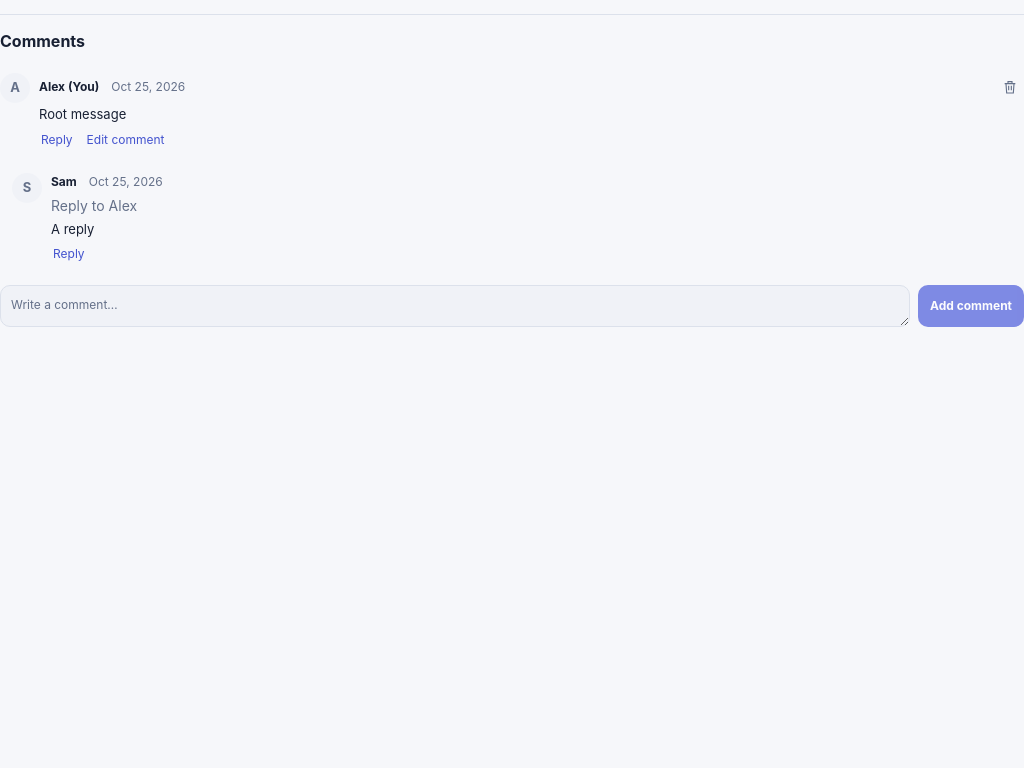
Test case: blocks repeated deletions while the first request is pending
Click the button named "Delete comment" at {"x": 1010, "y": 87}, box [996, 73, 1023, 101]
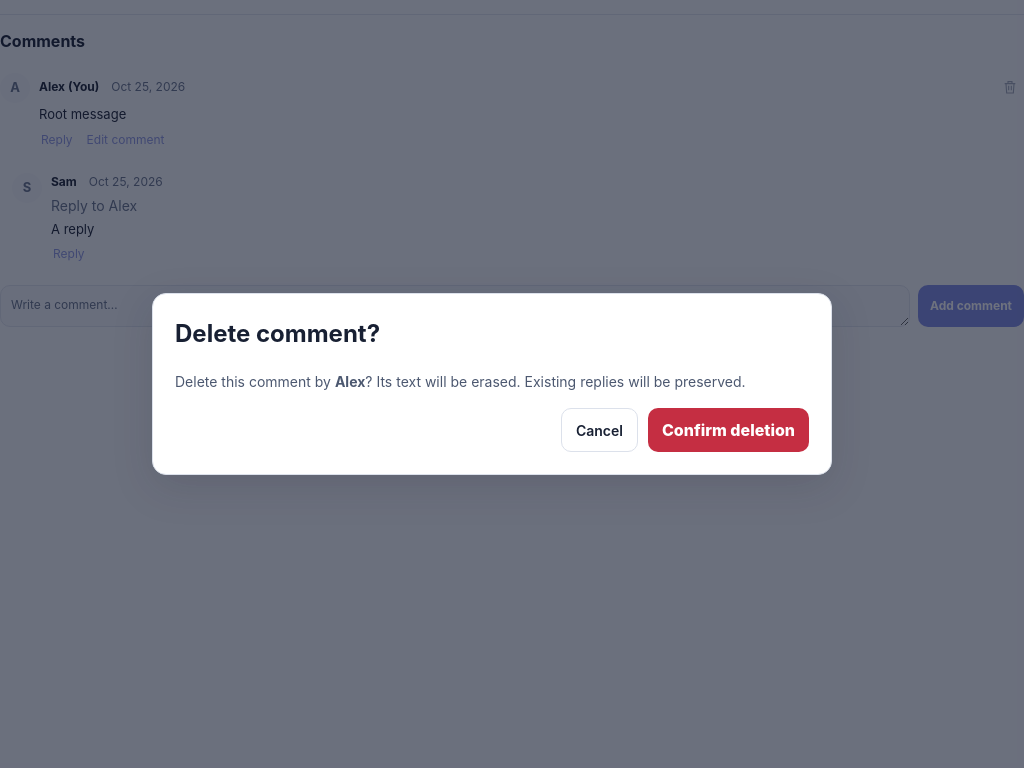
Click the button "Confirm deletion" at {"x": 728, "y": 430}, box [648, 408, 809, 452]
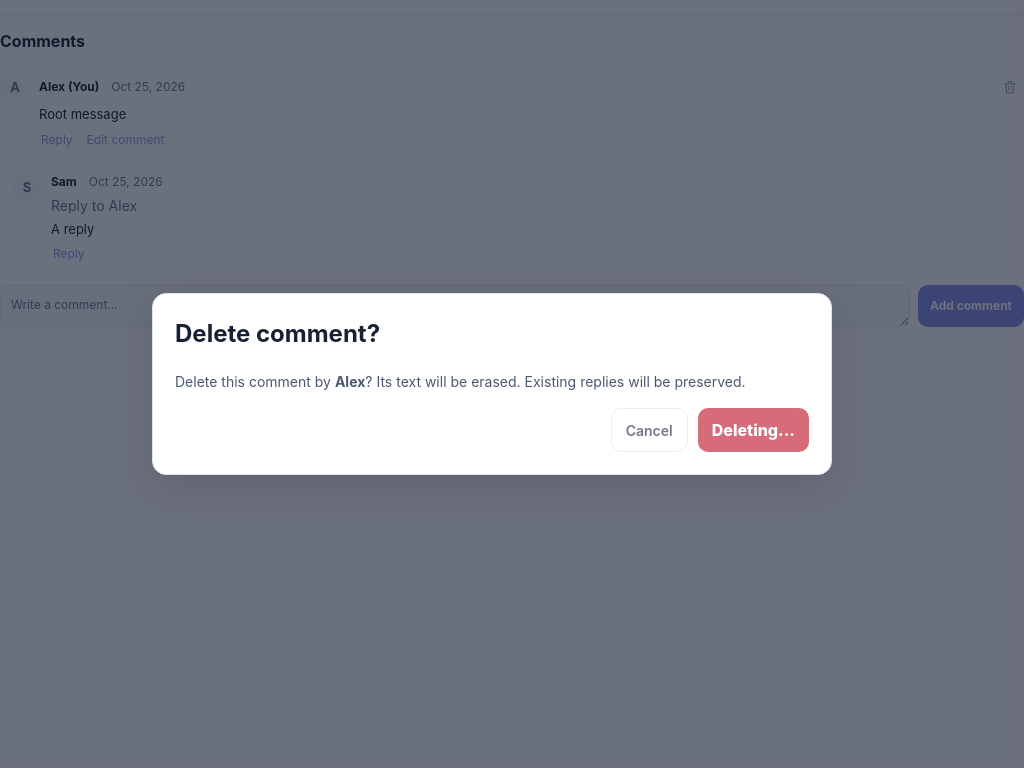
Click the button "Deleting..." at {"x": 753, "y": 430}, box [698, 408, 809, 452]
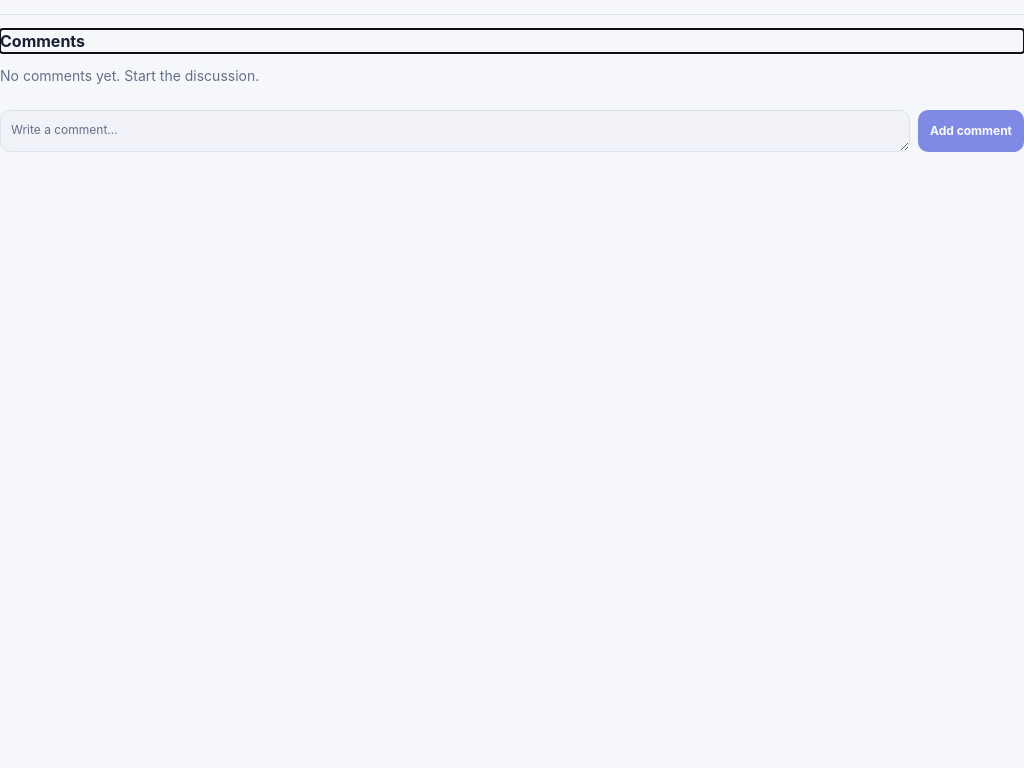
Check: the text "No comments yet. Start the discussion." is shown, box [0, 67, 259, 84]
